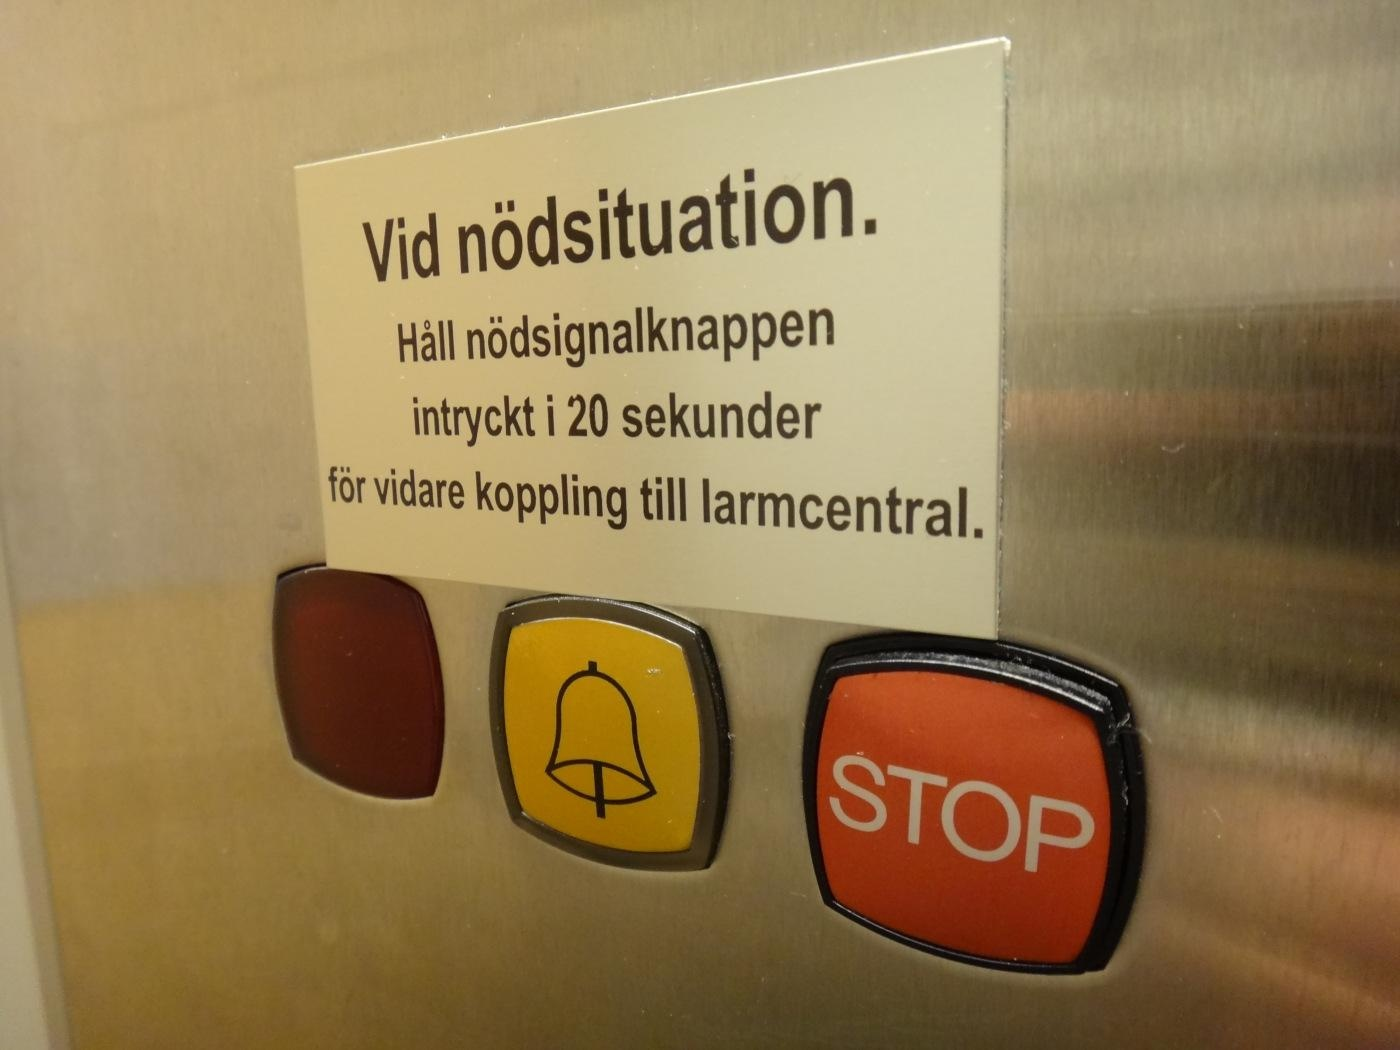alarm: (482, 586, 737, 883)
empty: (266, 562, 452, 808)
text_stop: (796, 622, 1155, 984)
